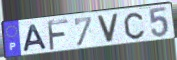5: (148, 6, 171, 40)
7: (73, 16, 93, 49)
A: (22, 23, 49, 54)
C: (123, 12, 146, 41)
F: (46, 18, 70, 52)
V: (95, 13, 120, 44)
